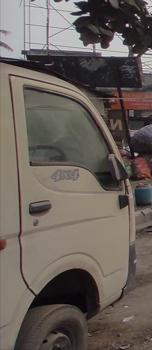Truck: (1, 55, 139, 350)
